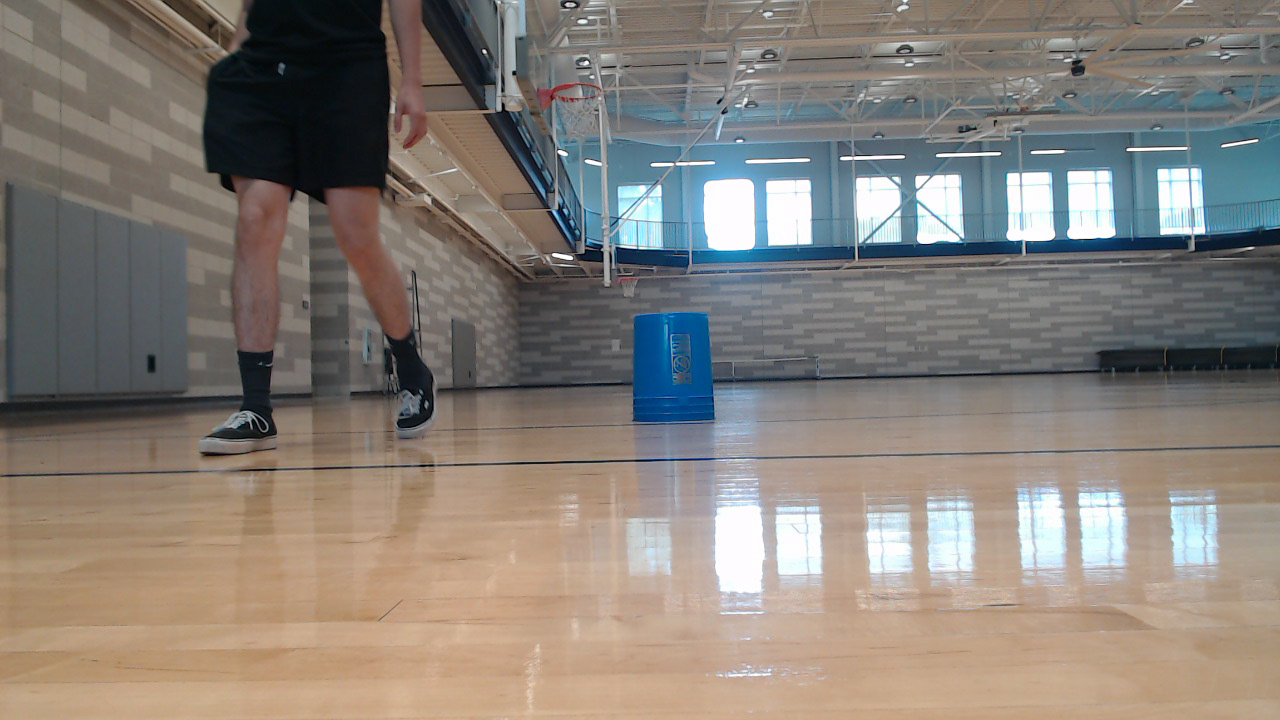blue_bucket: (636, 317, 719, 426)
